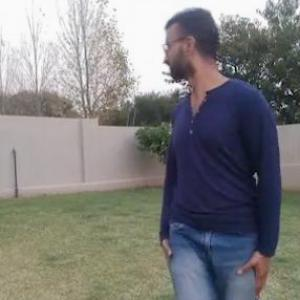follow: (154, 5, 283, 299)
